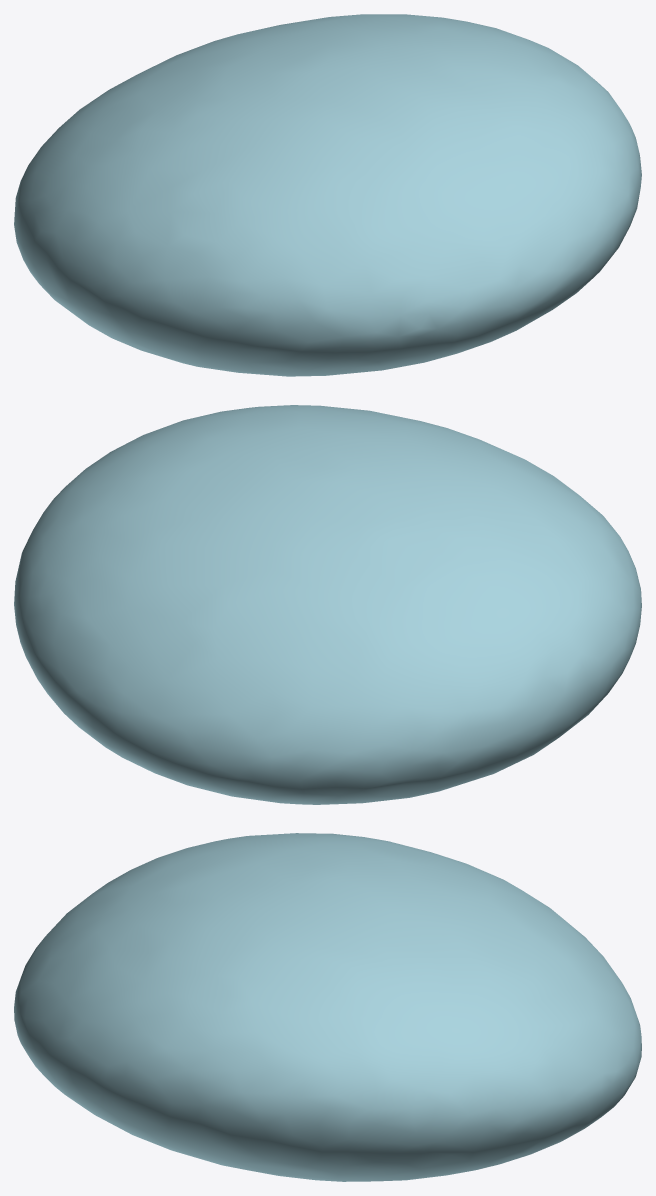
The picture shows the model from 3 angles, top to bottom: view 1: azimuth 30°, elevation 25°; view 2: azimuth 150°, elevation 25°; view 3: azimuth 270°, elevation 25°; orthographic projection.
Visible parts, largest first — view 1: 左侧晶状体; view 2: 左侧晶状体; view 3: 左侧晶状体.
Boxes of the visible parts, x1,y1,x2,y2 form: 左侧晶状体: [14, 14, 641, 376]; 左侧晶状体: [14, 405, 641, 804]; 左侧晶状体: [14, 833, 641, 1181].
Size of the model in its own units: 0.0152 by 0.00709 by 0.0153.
